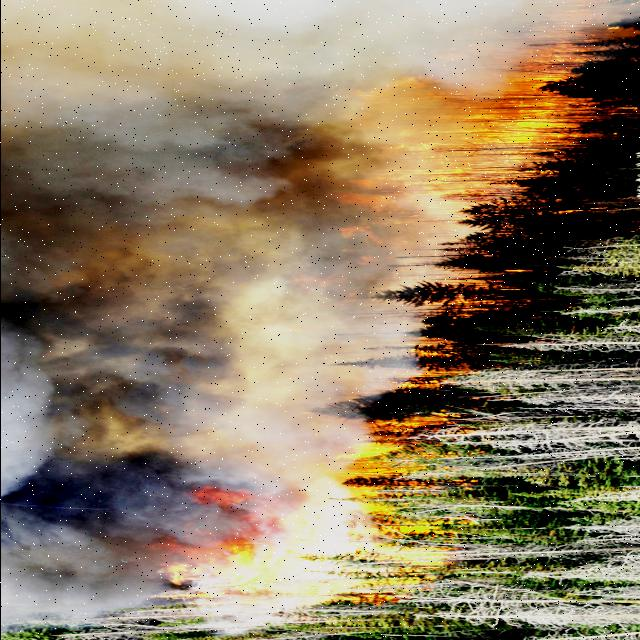api: (384, 75, 558, 207), (169, 563, 419, 610), (343, 518, 457, 568), (333, 425, 406, 488), (184, 539, 304, 565)
asap: (2, 1, 166, 635), (161, 10, 343, 531)
